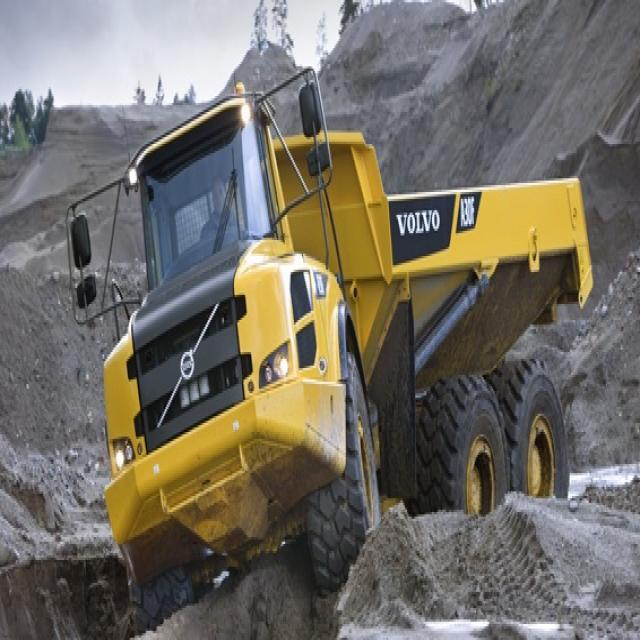dump_truck: (63, 57, 596, 597)
